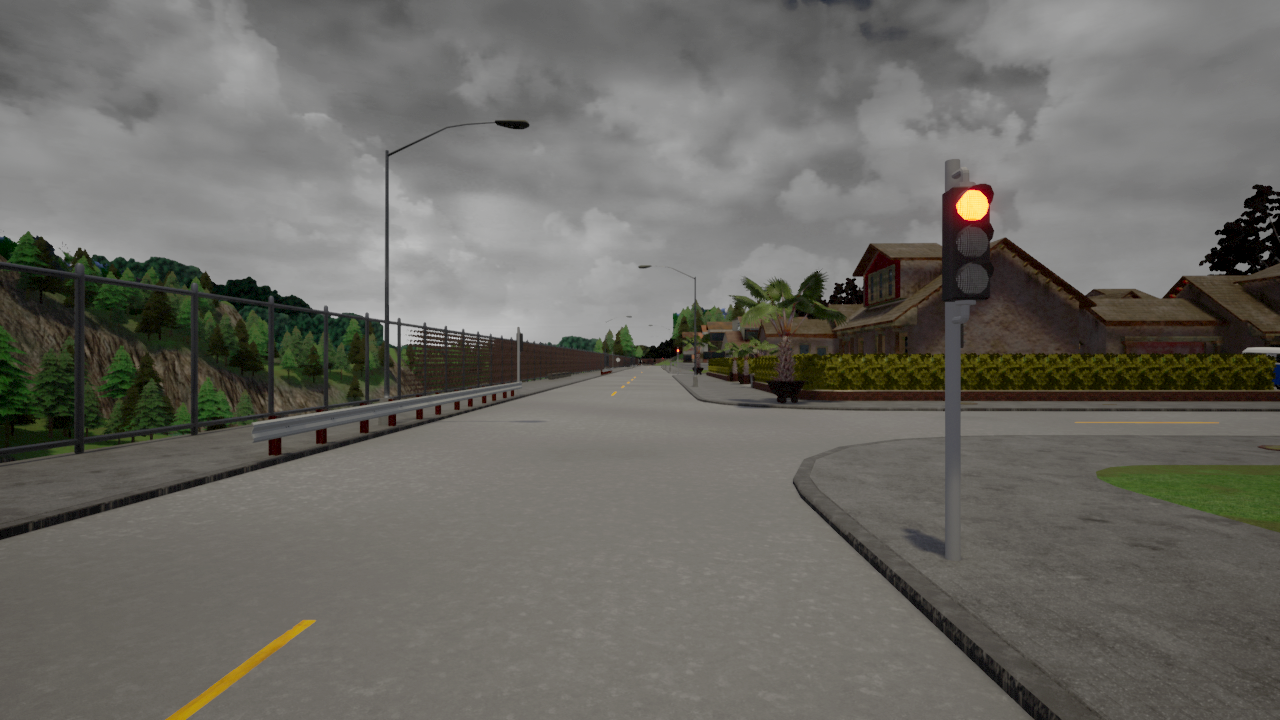red: (944, 182, 998, 307)
